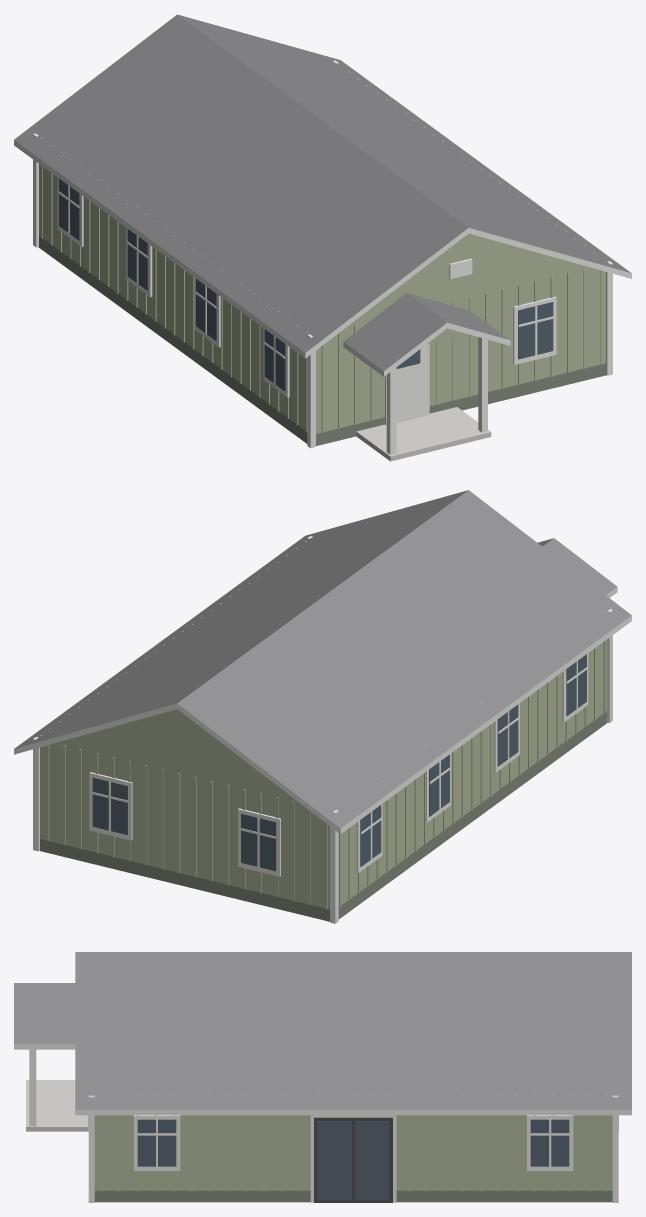
The model's file is almond-sage.glb.
3 renders of one model, top to bottom at view 1: azimuth 30°, elevation 25°; view 2: azimuth 150°, elevation 25°; view 3: azimuth 270°, elevation 25°, orthographic. The views are drawn at different scales.
Parts seen in each view (by area): view 1: The Almond (sage); view 2: The Almond (sage); view 3: The Almond (sage).
Boxes of the visible parts, x1,y1,x2,y2 form: The Almond (sage): [14, 14, 631, 461]; The Almond (sage): [14, 490, 631, 923]; The Almond (sage): [14, 952, 631, 1202].
Bounding box in the file's own units: 8.38 × 4.65 × 14.38.
